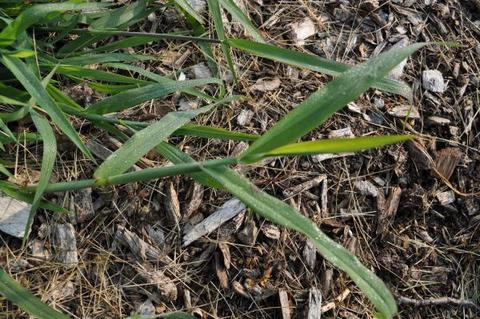crabgrass: (7, 1, 392, 283)
